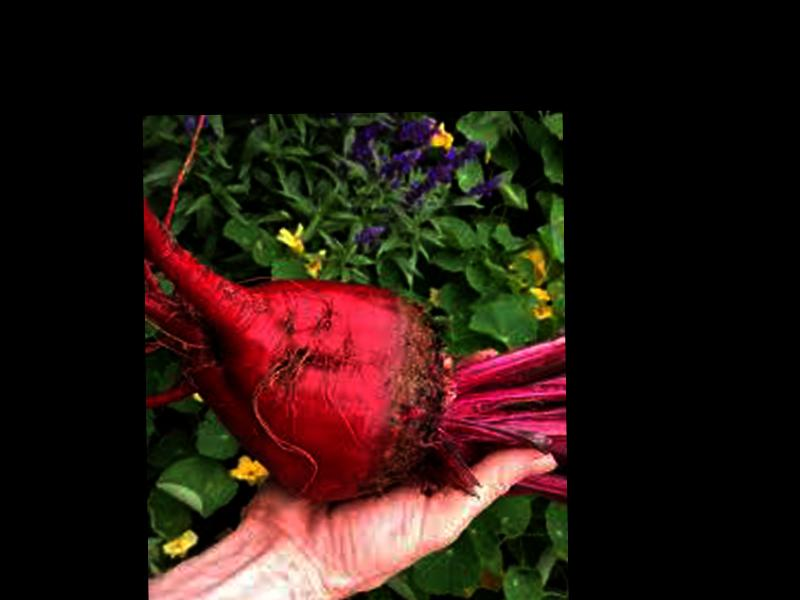Beet: (143, 199, 564, 504)
